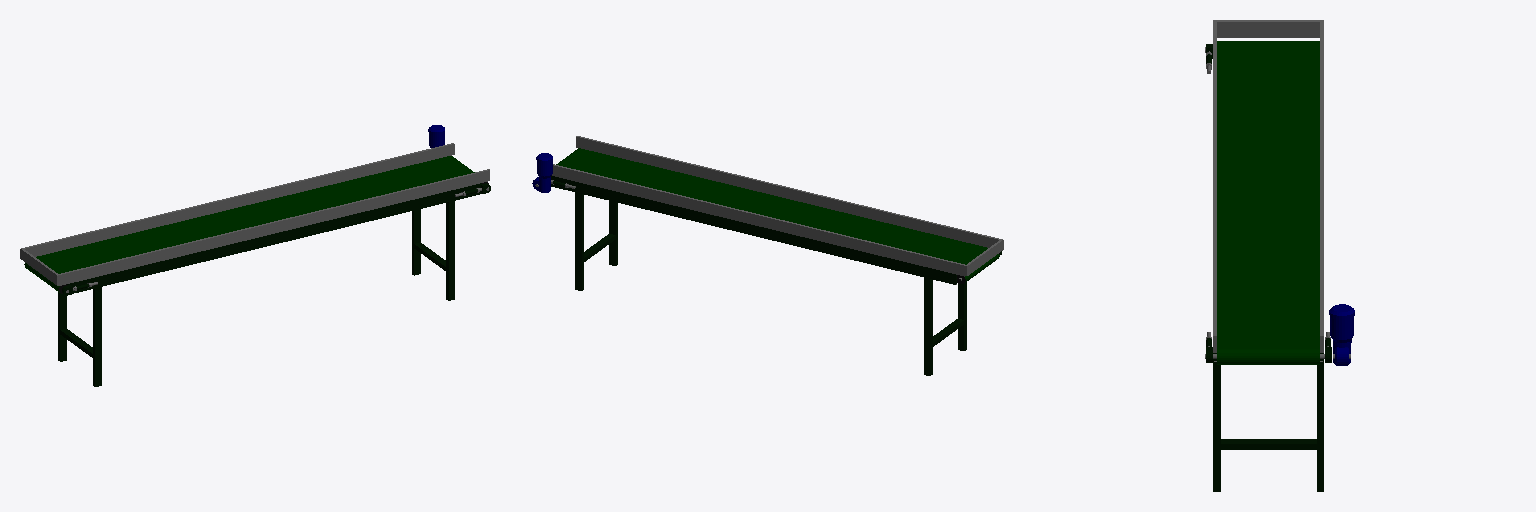
robot.urdf — conveyor1:
<robot
  name="conveyor1">
  <link name="conveyor1">
    <inertial>
      <origin xyz="0.0 0.0 0.0" rpy="0 0 0"/>
      <mass value="2.0"/>
      <inertia ixx="1" ixy="0.0" ixz="0.0" iyy="1" iyz="0.0" izz="1" />
    </inertial>

    <visual>
      <geometry>
        <mesh filename="../meshes/dae/conveyor2.dae" scale="1 1 1" />
      </geometry>
     </visual>

    <collision>
      <geometry>
        <mesh filename="../meshes/dae/conveyor2.dae" scale="1 1 1" />
      </geometry>
    </collision>

  </link>
</robot>

--- What the picture shows (computed from the rendered views, not written in the file) ---
The picture shows the robot from 3 angles, left to right: view 1: azimuth 30°, elevation 25°; view 2: azimuth 150°, elevation 25°; view 3: azimuth 270°, elevation 25°; orthographic projection.
Model conveyor1 with 1 links and 0 joints (none), rooted at conveyor1, posed every joint at zero.
Visible links, largest first — view 1: conveyor1; view 2: conveyor1; view 3: conveyor1.
Boxes of the visible links, box(x1,y1,x2,y2) form: conveyor1: box(20, 125, 490, 386); conveyor1: box(532, 136, 1003, 375); conveyor1: box(1205, 20, 1354, 491).
Size in the robot's own frame: 3.3 by 0.66 by 0.98 metres.
Meshes: 1 distinct files referenced, 1 mesh visuals loaded (1 Collada DAE).